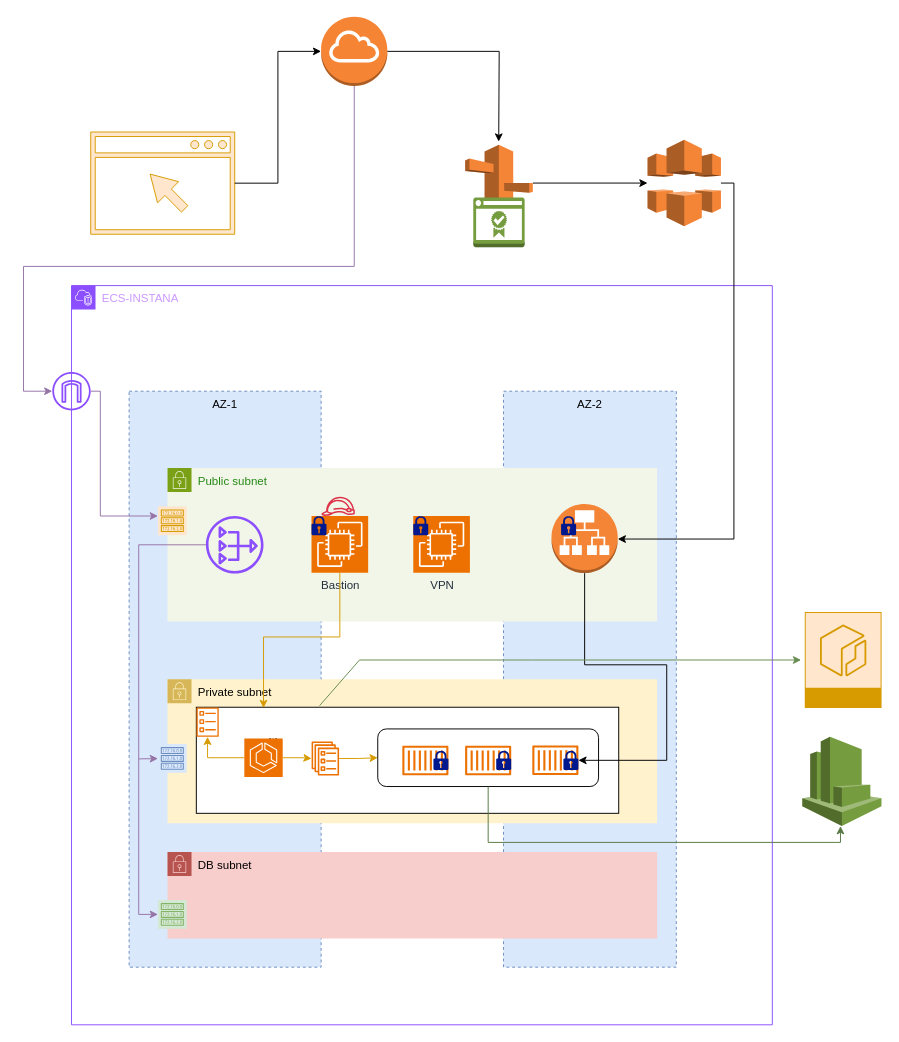
Some shapes in this 899 by 1042 pixel diagram are drawn without their labels. Here are the shapes that lost their labels. From the top down, the centre of each, then its label:
pixel 162 182: instana.konkas.tech
pixel 843 659: Amazon ECR
